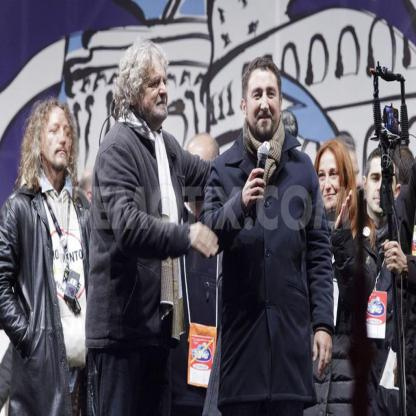face: (247, 67, 282, 137), (137, 52, 169, 123), (42, 106, 74, 170), (318, 148, 343, 212), (367, 160, 395, 216)
